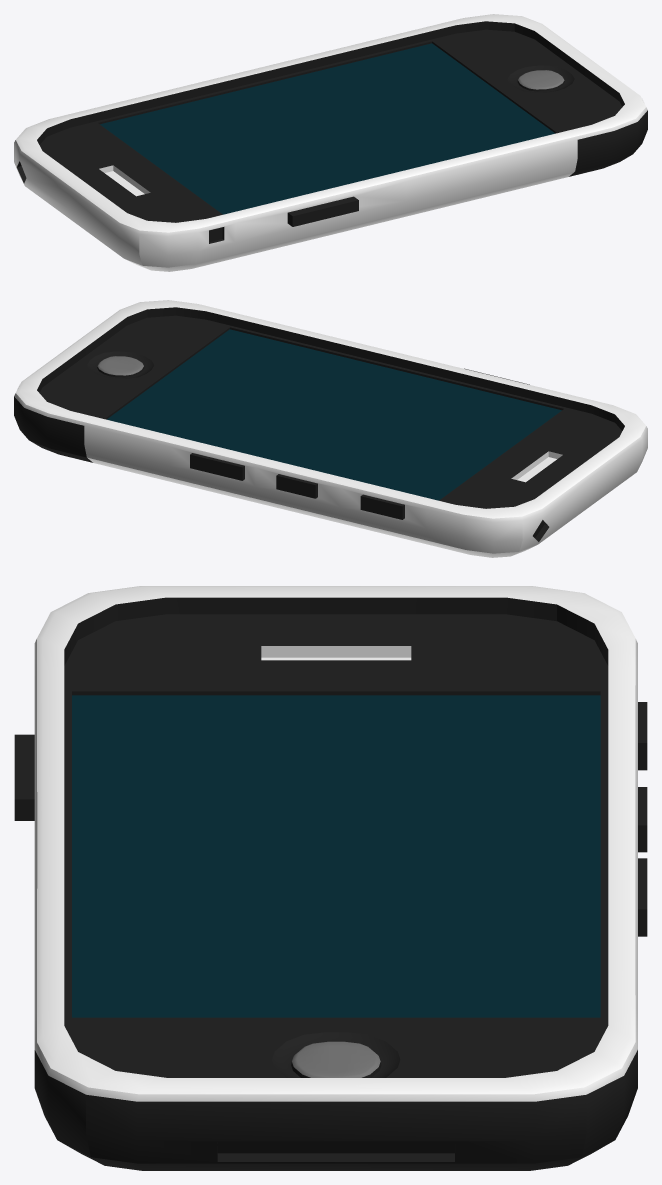
Rendered from Phone_Mobile_04.glb.
The picture shows the model from 3 angles, top to bottom: view 1: azimuth 30°, elevation 25°; view 2: azimuth 150°, elevation 25°; view 3: azimuth 270°, elevation 25°; orthographic projection. The views are drawn at different scales.
Parts seen in each view (by area): view 1: Mesh_Phone_Mobile_04; view 2: Mesh_Phone_Mobile_04; view 3: Mesh_Phone_Mobile_04.
Part boxes in pixels (x1,y1,x2,y2): Mesh_Phone_Mobile_04: (14, 14, 647, 271); Mesh_Phone_Mobile_04: (14, 300, 647, 557); Mesh_Phone_Mobile_04: (14, 586, 647, 1170).
Bounding box in the file's own units: 0.15 × 0.0142 × 0.0785.
1 material, 1 textured.
